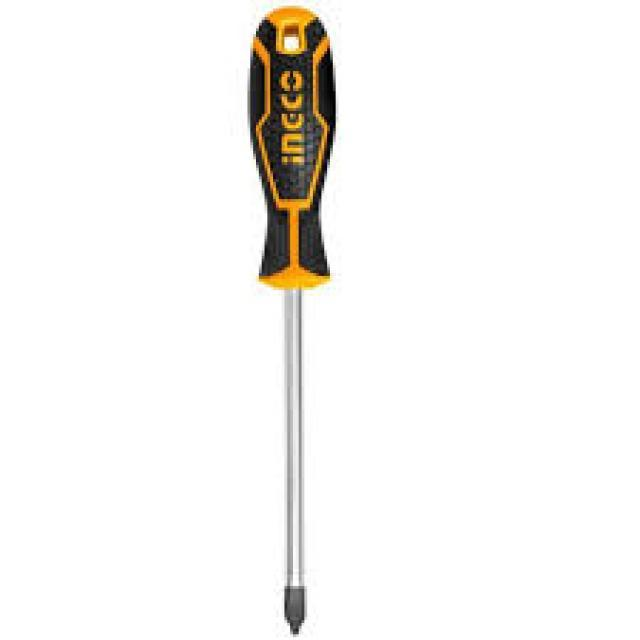screwdriver: (243, 3, 340, 640)
